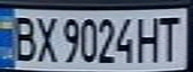0: (78, 15, 100, 64)
2: (97, 15, 118, 65)
4: (115, 15, 139, 64)
9: (57, 13, 81, 64)
B: (6, 11, 39, 62)
H: (136, 13, 163, 64)
T: (154, 12, 187, 62)
X: (33, 12, 60, 63)
